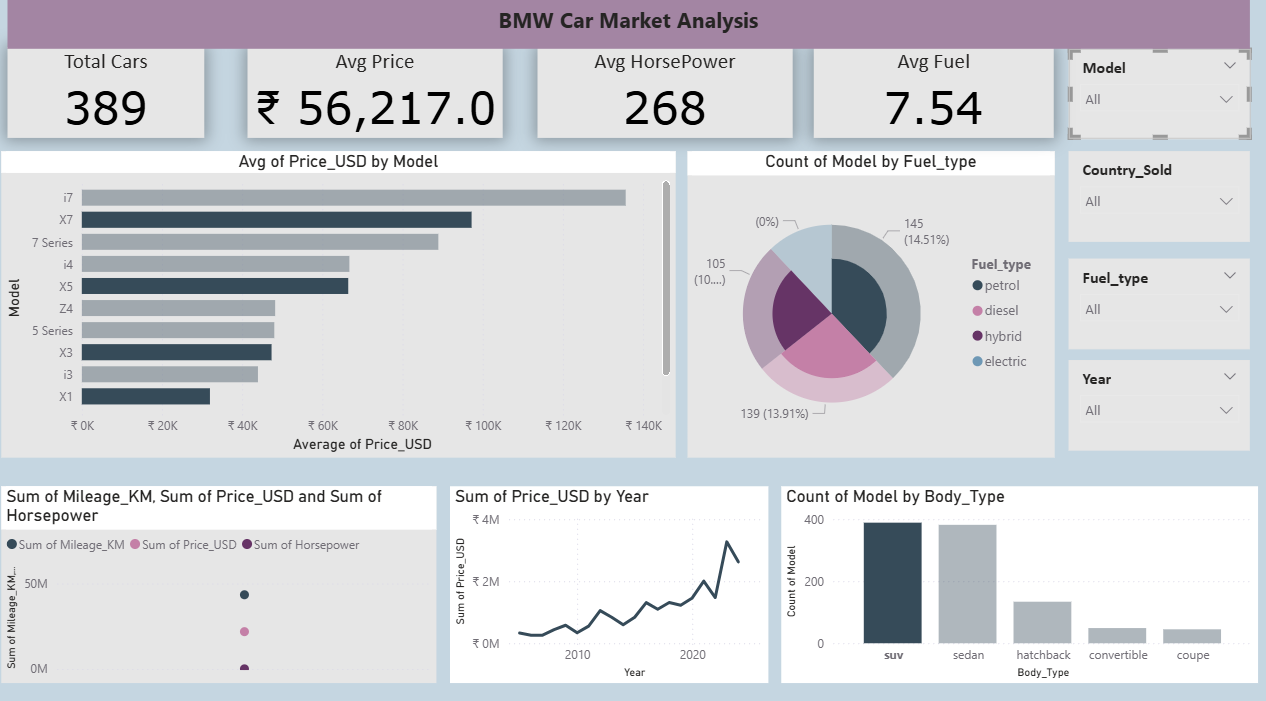

Layout of this report page (visuals, bound fields, positions):
{"tool":"powerbi","page":{"name":"Page 1","canvas":[1280,720],"ordinal":0},"visuals":[{"type":"card","title":"Total Cars","fields":{"Values":["bmw_cars_market_dataset_.Total Car"]},"box":[13,47,197,90],"z":0},{"type":"card","title":"Avg Price ","fields":{"Values":["Avg(bmw_cars_market_dataset_.Price_USD)"]},"box":[252,47,255,90],"z":1000},{"type":"card","title":"Avg HorsePower","fields":{"Values":["Avg(bmw_cars_market_dataset_.Horsepower)"]},"box":[543,47,255,90],"z":2000},{"type":"clusteredBarChart","title":"Avg of Price_USD by Model","fields":{"Category":["bmw_cars_market_dataset_.Model"],"Y":["Avg(bmw_cars_market_dataset_.Price_USD)"]},"box":[6,151,674,306],"z":3000},{"type":"pieChart","fields":{"Category":["bmw_cars_market_dataset_.Fuel_type"],"Y":["CountNonNull(bmw_cars_market_dataset_.Model)"]},"box":[692,151,367,306],"z":4000},{"type":"lineChart","fields":{"Y":["Sum(bmw_cars_market_dataset_.Mileage_KM)","Sum(bmw_cars_market_dataset_.Price_USD)","Sum(bmw_cars_market_dataset_.Horsepower)"]},"box":[6,486,435,197],"z":5000},{"type":"lineChart","fields":{"Category":["bmw_cars_market_dataset_.Year"],"Y":["Sum(bmw_cars_market_dataset_.Price_USD)"]},"box":[455,486,318,197],"z":6000},{"type":"columnChart","fields":{"Category":["bmw_cars_market_dataset_.Body_Type"],"Y":["CountNonNull(bmw_cars_market_dataset_.Model)"]},"box":[786,486,477,197],"z":7000},{"type":"slicer","fields":{"Values":["bmw_cars_market_dataset_.Model"]},"box":[1074,49,181,90],"z":11000},{"type":"card","title":"Avg Fuel","fields":{"Values":["Avg(bmw_cars_market_dataset_.Fuel_Consumption)"]},"box":[819,47,240,90],"z":12000},{"type":"textbox","box":[13,0,1242,49],"z":13000},{"type":"slicer","fields":{"Values":["bmw_cars_market_dataset_.Country_Sold"]},"box":[1074,151,181,90],"z":13001},{"type":"slicer","fields":{"Values":["bmw_cars_market_dataset_.Fuel_type"]},"box":[1074,259,181,90],"z":13002},{"type":"slicer","fields":{"Values":["bmw_cars_market_dataset_.Year"]},"box":[1074,360,181,90],"z":13003}]}

Visuals, with their boxes in screenshot pixels (x1, y1, x2, y2), scaled from the page's 1280x720 canvas onto the 1266x701 screenshot:
"Total Cars" card: bbox(13, 46, 208, 133)
"Avg Price " card: bbox(249, 46, 501, 133)
"Avg HorsePower" card: bbox(537, 46, 789, 133)
"Avg of Price_USD by Model" clusteredBarChart: bbox(6, 147, 673, 445)
pieChart - bmw_cars_market_dataset_.Fuel_type x CountNonNull(bmw_cars_market_dataset_.Model): bbox(684, 147, 1047, 445)
lineChart - Sum(bmw_cars_market_dataset_.Mileage_KM) x Sum(bmw_cars_market_dataset_.Price_USD): bbox(6, 473, 436, 665)
lineChart - bmw_cars_market_dataset_.Year x Sum(bmw_cars_market_dataset_.Price_USD): bbox(450, 473, 765, 665)
columnChart - bmw_cars_market_dataset_.Body_Type x CountNonNull(bmw_cars_market_dataset_.Model): bbox(777, 473, 1249, 665)
slicer - bmw_cars_market_dataset_.Model: bbox(1062, 48, 1241, 135)
"Avg Fuel" card: bbox(810, 46, 1047, 133)
textbox: bbox(13, 0, 1241, 48)
slicer - bmw_cars_market_dataset_.Country_Sold: bbox(1062, 147, 1241, 235)
slicer - bmw_cars_market_dataset_.Fuel_type: bbox(1062, 252, 1241, 340)
slicer - bmw_cars_market_dataset_.Year: bbox(1062, 350, 1241, 438)
